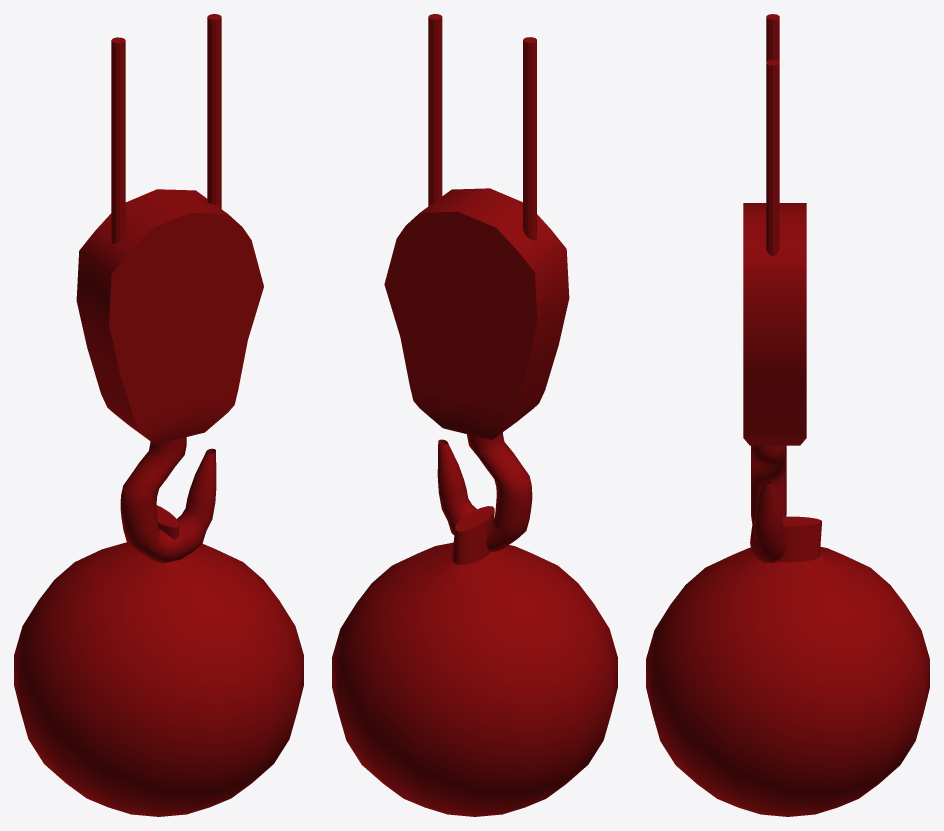
File: hook02.obj
3 renders of one model, left to right at view 1: azimuth 30°, elevation 25°; view 2: azimuth 150°, elevation 25°; view 3: azimuth 270°, elevation 25°, orthographic. The views are drawn at different scales.
Visible parts, largest first — view 1: default; view 2: default; view 3: default.
Boxes of the visible parts, x1,y1,x2,y2 form: default: [14, 14, 303, 816]; default: [332, 14, 617, 816]; default: [646, 14, 929, 816].
Bounding box in the file's own units: 1.96 × 5.86 × 1.97.
